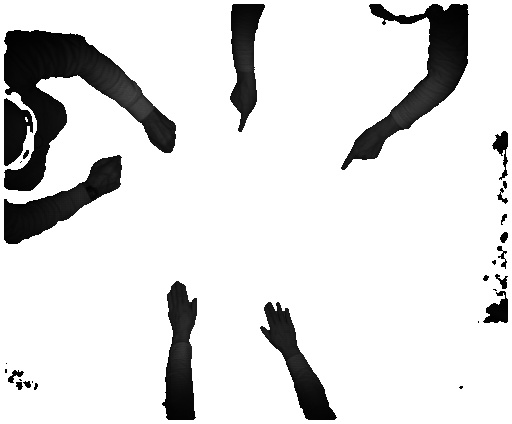fist: (87, 154, 127, 200), (144, 110, 175, 158)
hand: (336, 126, 388, 175), (256, 296, 299, 353), (160, 280, 199, 336), (224, 82, 263, 135)
